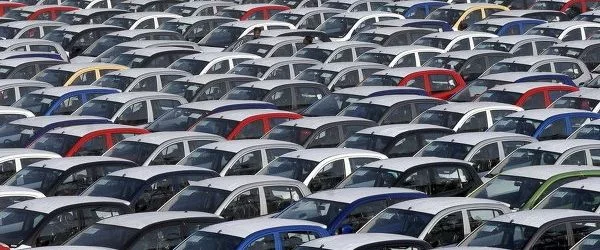Car: (355, 197, 512, 249), (272, 187, 428, 236), (156, 175, 312, 222), (0, 196, 132, 249), (80, 165, 219, 212), (465, 165, 600, 212), (62, 211, 224, 250), (335, 157, 484, 197), (255, 148, 389, 192), (457, 209, 600, 250), (0, 156, 138, 197), (412, 132, 537, 177), (173, 217, 330, 250), (481, 139, 600, 182), (176, 139, 306, 176), (102, 130, 227, 166), (143, 100, 277, 132), (70, 92, 187, 128), (28, 124, 152, 157), (336, 124, 454, 158), (299, 86, 427, 117), (449, 72, 576, 102), (260, 117, 379, 149), (69, 29, 184, 62), (0, 115, 112, 148), (487, 109, 600, 141), (358, 67, 467, 100), (187, 109, 303, 140), (336, 94, 451, 125), (409, 102, 523, 133), (219, 80, 329, 112), (478, 55, 592, 85), (13, 86, 121, 116), (197, 20, 296, 52), (423, 50, 513, 85), (41, 24, 128, 60), (473, 82, 581, 109), (159, 74, 262, 102), (292, 62, 387, 91), (315, 11, 405, 41), (91, 40, 203, 63), (222, 29, 331, 52), (531, 178, 600, 214), (424, 3, 510, 31), (91, 68, 191, 92), (294, 233, 431, 250), (32, 63, 128, 87), (0, 148, 63, 184), (168, 52, 264, 75), (226, 57, 322, 80), (159, 16, 237, 43), (232, 36, 324, 58), (354, 46, 444, 68), (292, 41, 381, 63), (111, 47, 204, 68), (473, 35, 563, 56), (541, 40, 600, 72), (412, 31, 500, 52), (268, 7, 346, 29), (351, 27, 438, 46), (523, 21, 600, 42), (0, 39, 69, 62), (0, 58, 69, 80), (464, 18, 547, 36), (0, 79, 55, 106), (527, 0, 600, 20), (546, 89, 600, 114), (377, 0, 448, 19), (103, 12, 182, 29), (0, 21, 66, 41), (0, 5, 81, 21), (56, 8, 128, 25), (218, 4, 290, 21), (0, 185, 47, 210), (165, 1, 236, 17), (367, 19, 454, 32), (488, 10, 570, 22), (320, 0, 395, 12), (114, 0, 181, 12), (568, 119, 600, 141), (0, 106, 35, 126), (0, 52, 67, 62), (570, 228, 600, 250), (61, 0, 126, 9), (271, 0, 327, 9), (488, 0, 535, 10), (0, 1, 27, 17), (571, 10, 600, 22), (9, 0, 65, 6), (580, 75, 600, 91), (583, 28, 600, 41), (447, 0, 490, 4), (591, 64, 600, 78), (0, 17, 16, 24)
